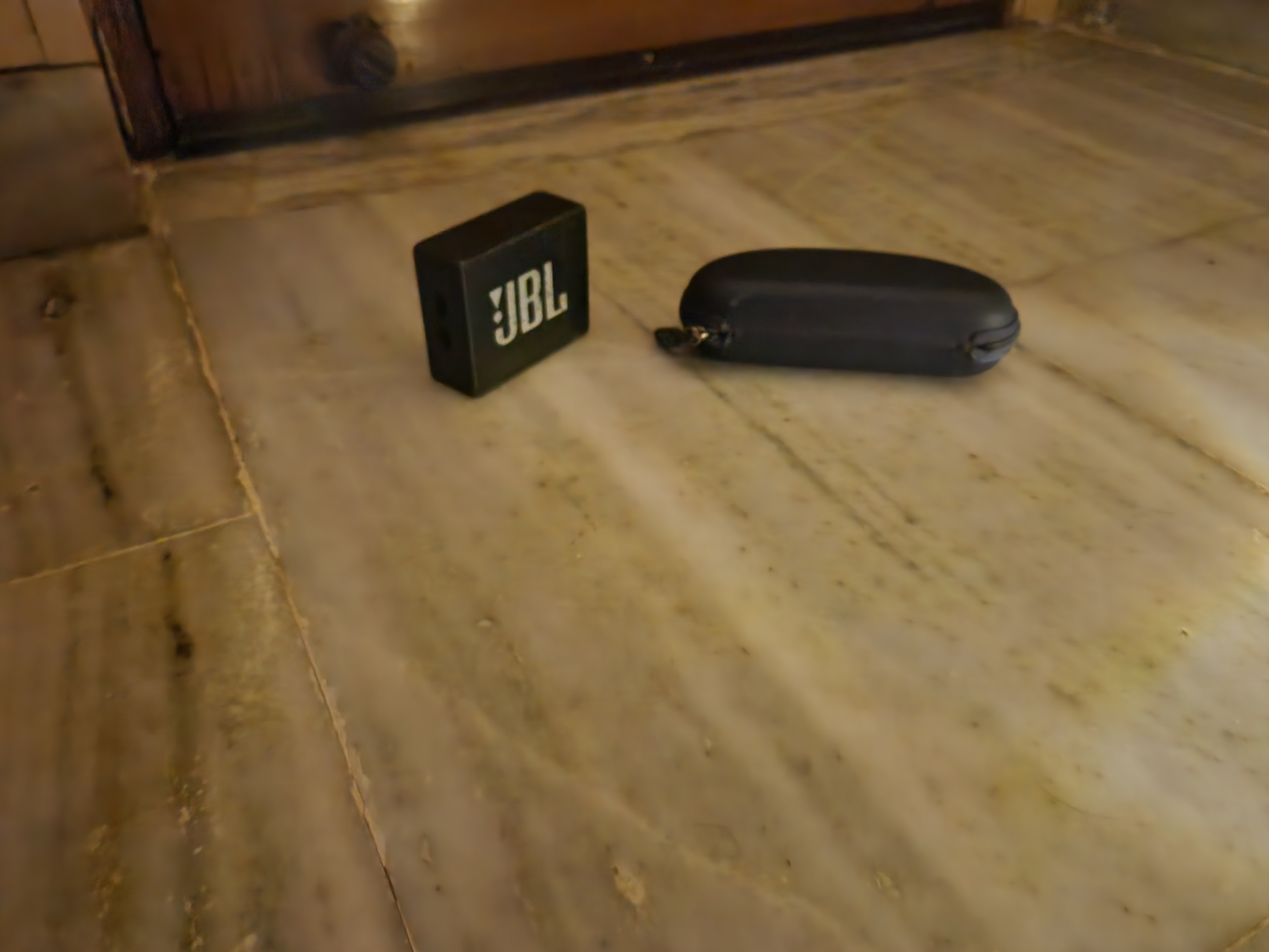case: (654, 246, 1020, 380)
speaker: (412, 183, 595, 401)
